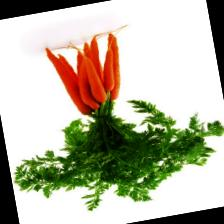carrot: (42, 40, 92, 119), (97, 31, 126, 100), (80, 49, 108, 103), (72, 56, 99, 110), (96, 47, 119, 90)
